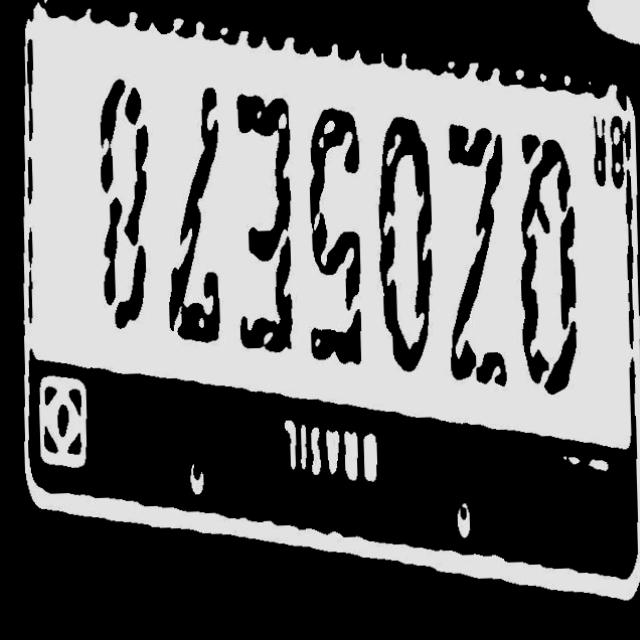0: (370, 117, 435, 381)
5: (299, 102, 365, 374)
7: (159, 86, 224, 349)
8: (93, 76, 153, 334)
e: (232, 89, 297, 359)
q: (515, 137, 582, 405)
z: (440, 123, 511, 397)
